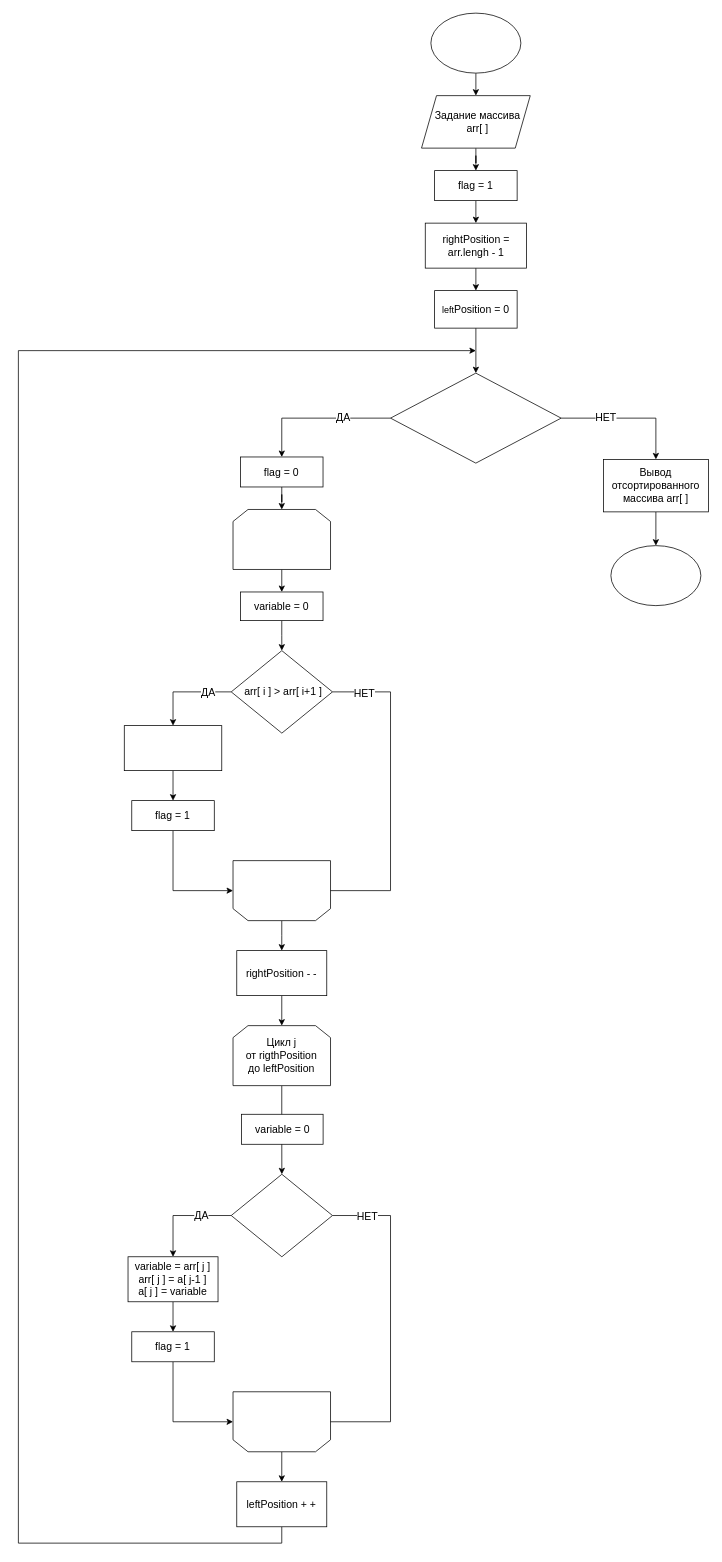
The diagram is 722 pixels wide and 1562 high, and some of its shapes have lost their labels. The shapes that lost their labels are listed below. From the top down, each one's centre as x and y in pixels, then its label:
(475,42): Start
(475,417): leftPosition < rightPosition и flag > 0
(281,539): Цикл i от leftPosition до rightPosition
(655,575): End
(173,748): variable = arr[ i ] arr[ i ] = arr[ i+1 ] arr[ i+1 ] = variable
(281,890): Цикл i++
(281,1215): arr[ j-1 ] > arr[ j ]
(281,1421): j - - Цикл j
